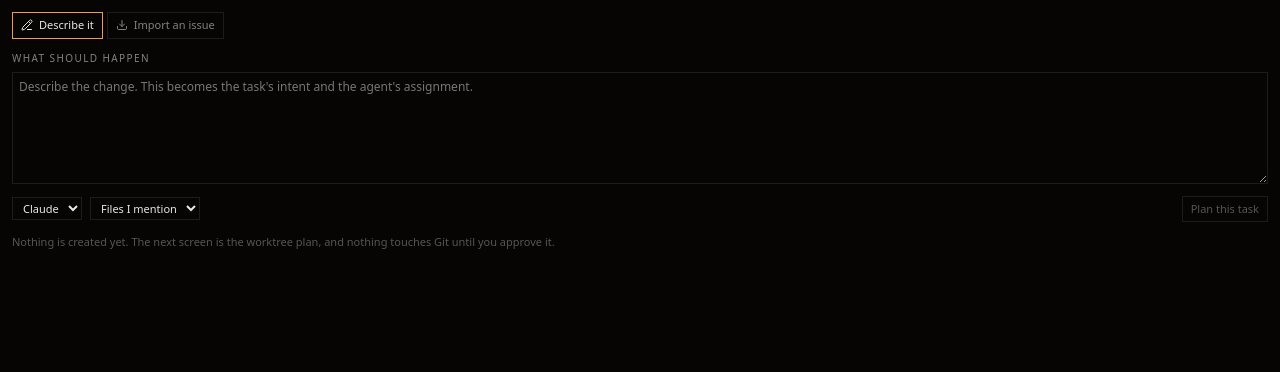
Test: NewTask › pre-fills the description from an imported issue and keeps the link
The image size is (1280, 372).
What coordinates should you click on to do the following:
click the tab "Import an issue"
I would click on:
 (165, 25)
Its box is [107,12,224,38].
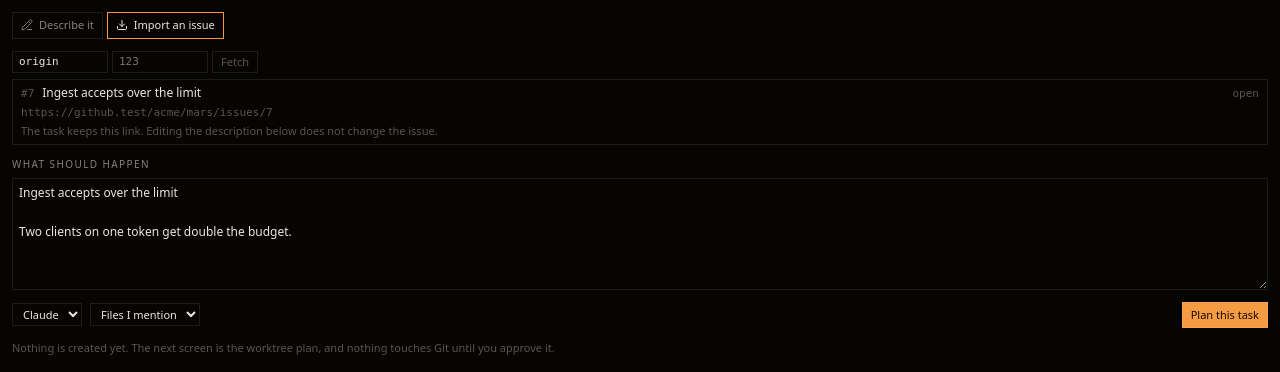
Expected: the text "https://github.test/acme/mars/issues/7" is shown, [21,106,273,118]
Expected: the text "The task keeps this link" is shown, [21,123,438,138]
